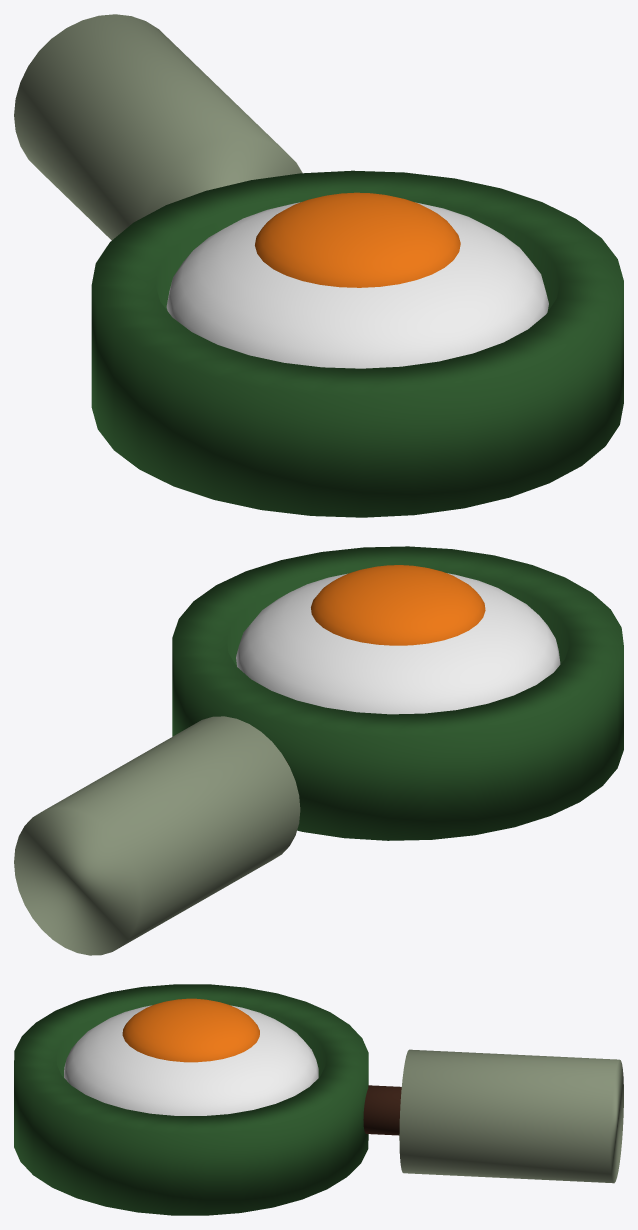
Rendered from egg.glb.
3 views of the same model, one above another, from view 1: azimuth 30°, elevation 25°; view 2: azimuth 150°, elevation 25°; view 3: azimuth 270°, elevation 25° (orthographic). The views are drawn at different scales.
Visible parts, largest first — view 1: 円柱, 円柱.002, 球, 球.001; view 2: 円柱, 円柱.002, 球, 球.001; view 3: 円柱, 円柱.002, 球, 球.001, 円柱.004.
Part boxes in pixels (x1,y1,x2,y2): 円柱: (91,170,623,517); 円柱.002: (14,14,302,240); 球: (166,202,548,368); 球.001: (255,192,460,287); 円柱: (172,546,623,840); 円柱.002: (14,716,300,955); 球: (236,573,560,714); 球.001: (311,565,485,645); 円柱: (14,984,368,1215); 円柱.002: (399,1049,623,1183); 球: (64,1005,318,1115); 球.001: (122,998,259,1062); 円柱.004: (363,1085,401,1135).
Size of the model in its own units: 3.2 by 1.45 by 5.5.
